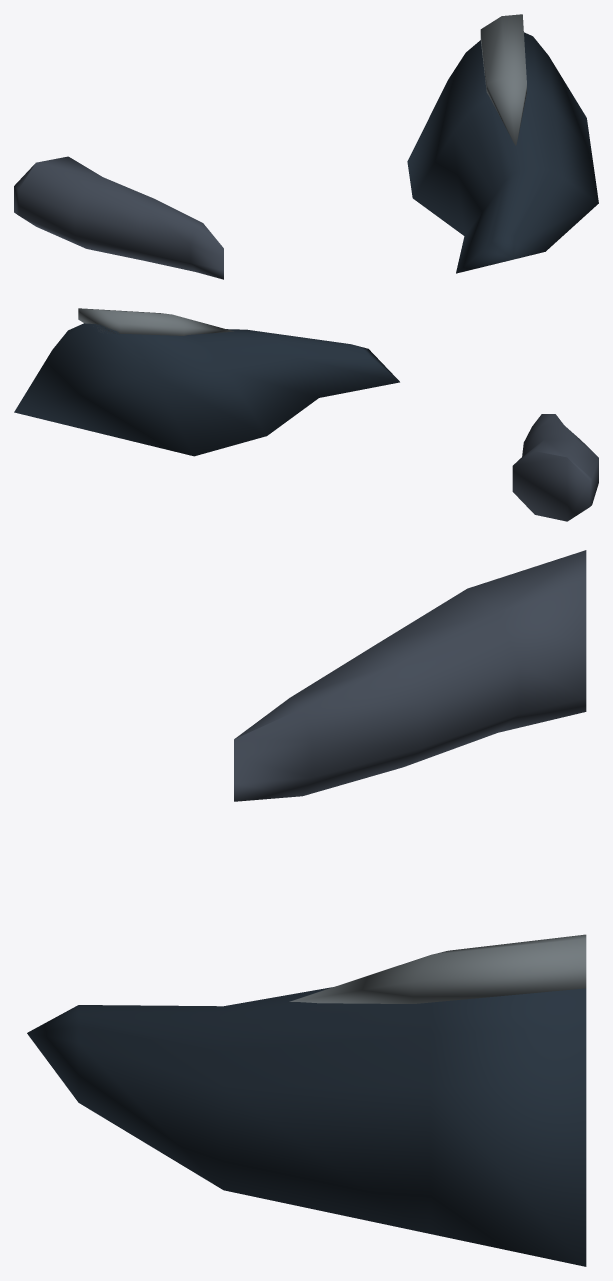
Rendered from newshn-39-f3.glb.
3 views of the same model, one above another, from view 1: azimuth 30°, elevation 25°; view 2: azimuth 150°, elevation 25°; view 3: azimuth 270°, elevation 25° (orthographic). The views are drawn at different scales.
Visible parts, largest first — view 1: newshn-39-f3; view 2: newshn-39-f3; view 3: newshn-39-f3.
Part boxes in pixels (x1=…): newshn-39-f3: x1=14, y1=14, x2=598, y2=279; newshn-39-f3: x1=14, y1=308, x2=598, y2=521; newshn-39-f3: x1=27, y1=550, x2=586, y2=1266.
Bounding box in the file's own units: 1.06 × 0.2175 × 0.45.
